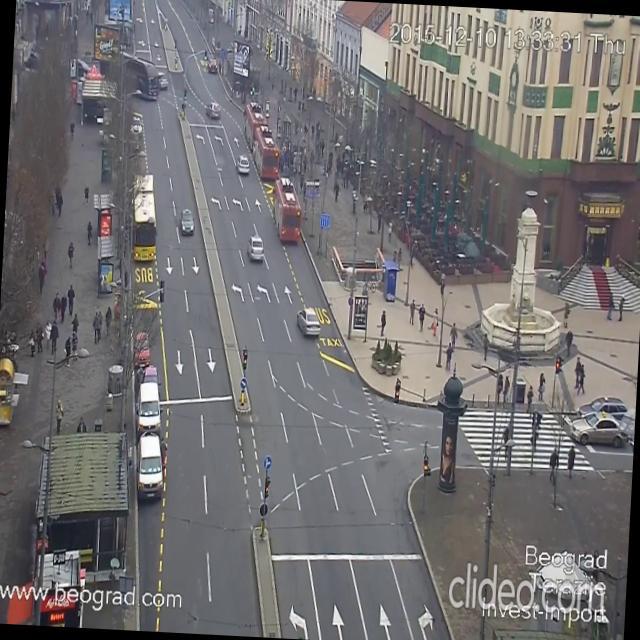bus: (240, 99, 282, 183), (128, 172, 160, 262), (113, 44, 162, 100), (271, 175, 303, 243)
car: (132, 433, 166, 506), (572, 410, 620, 450), (580, 397, 628, 428), (135, 380, 161, 437), (296, 306, 322, 337), (134, 333, 154, 370), (247, 235, 264, 261), (141, 358, 159, 382), (180, 208, 195, 235), (205, 100, 221, 119), (153, 71, 170, 87), (238, 156, 250, 172), (208, 59, 220, 74)
